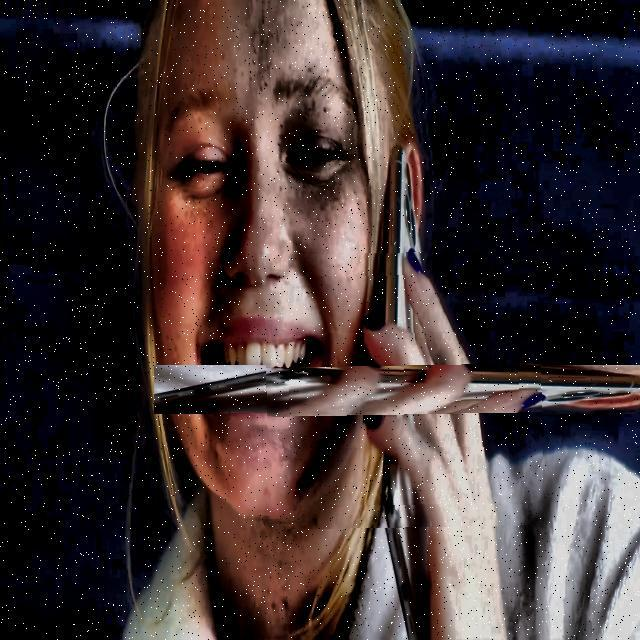Phone: (265, 251, 542, 528)
